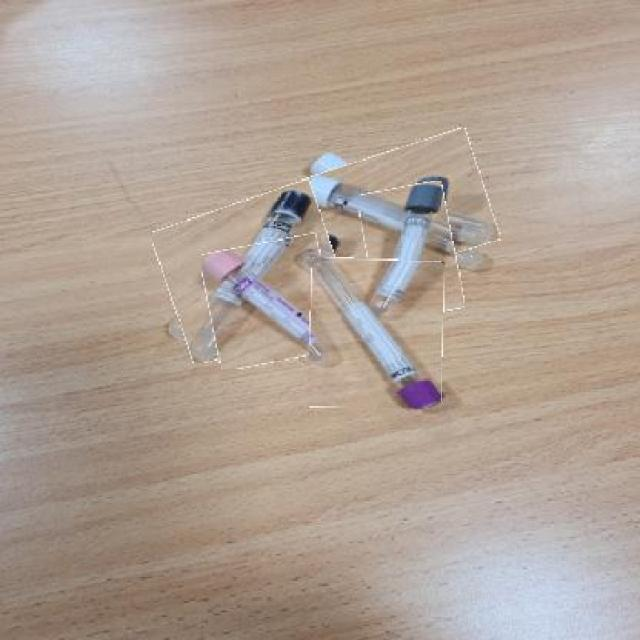Experimental-tube: (159, 190, 344, 353), (305, 140, 492, 282), (308, 257, 443, 408), (204, 238, 333, 367), (362, 185, 460, 320)
